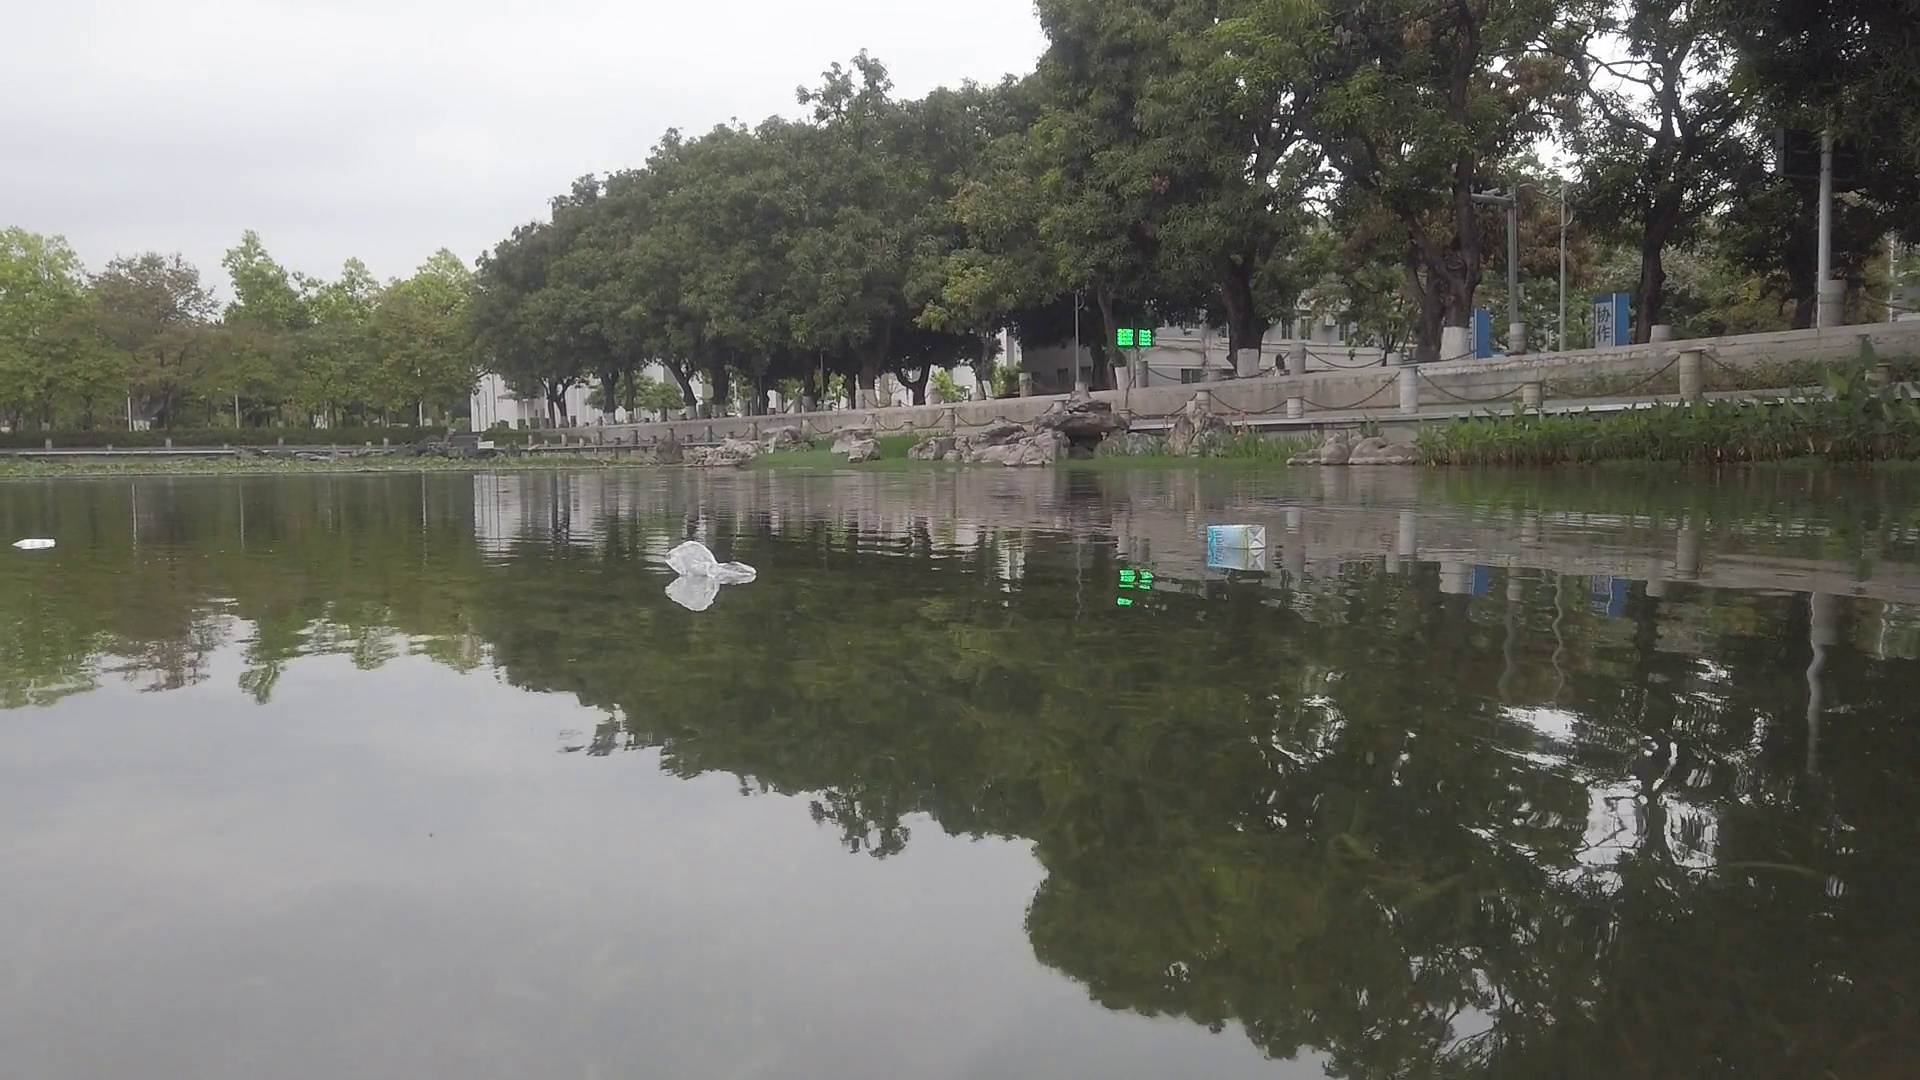carton: (1207, 524, 1266, 547)
paper: (15, 538, 55, 550)
plastic: (663, 543, 758, 585)
